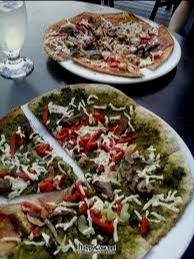Grape Rotten: (0, 86, 191, 258)
